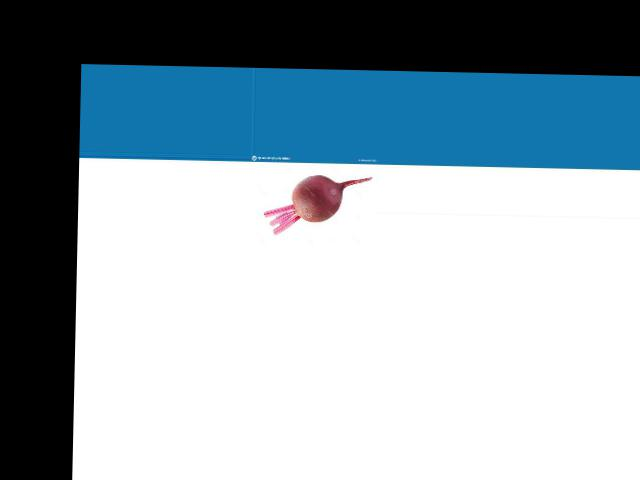beet: (264, 174, 371, 235)
